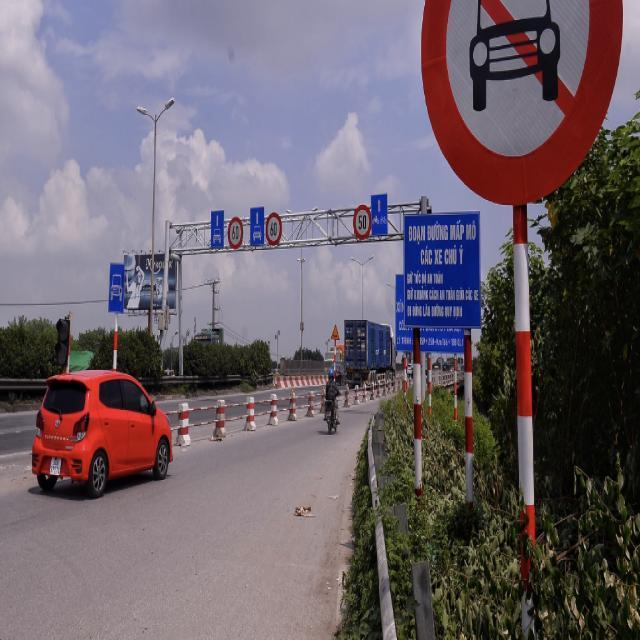103a-cam-oto: (421, 0, 624, 201)
127-toc-do-toi-da-50: (351, 202, 372, 242)
127-toc-do-toi-da-60: (265, 211, 284, 250), (228, 217, 243, 256)
